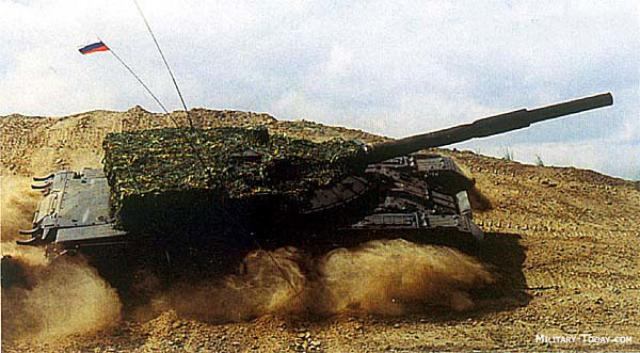tank: (35, 124, 477, 251)
